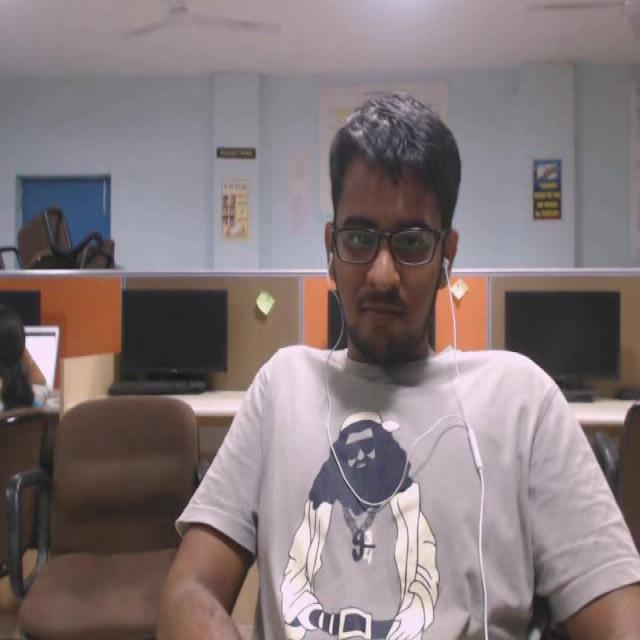Engaged: (296, 60, 478, 421)
